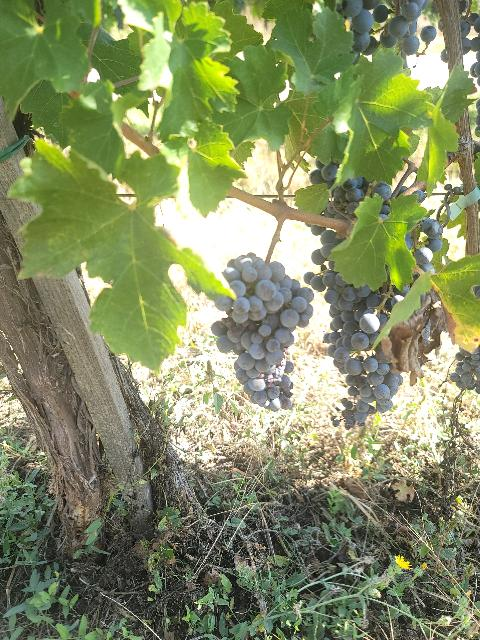grapes: (211, 252, 314, 411), (310, 269, 391, 376), (341, 356, 402, 429)
